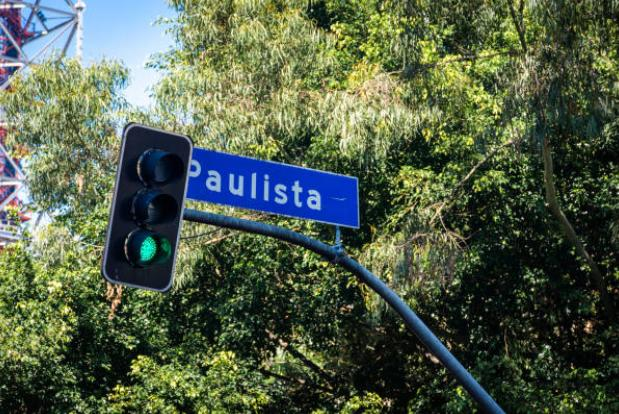green_light: (104, 123, 192, 290)
